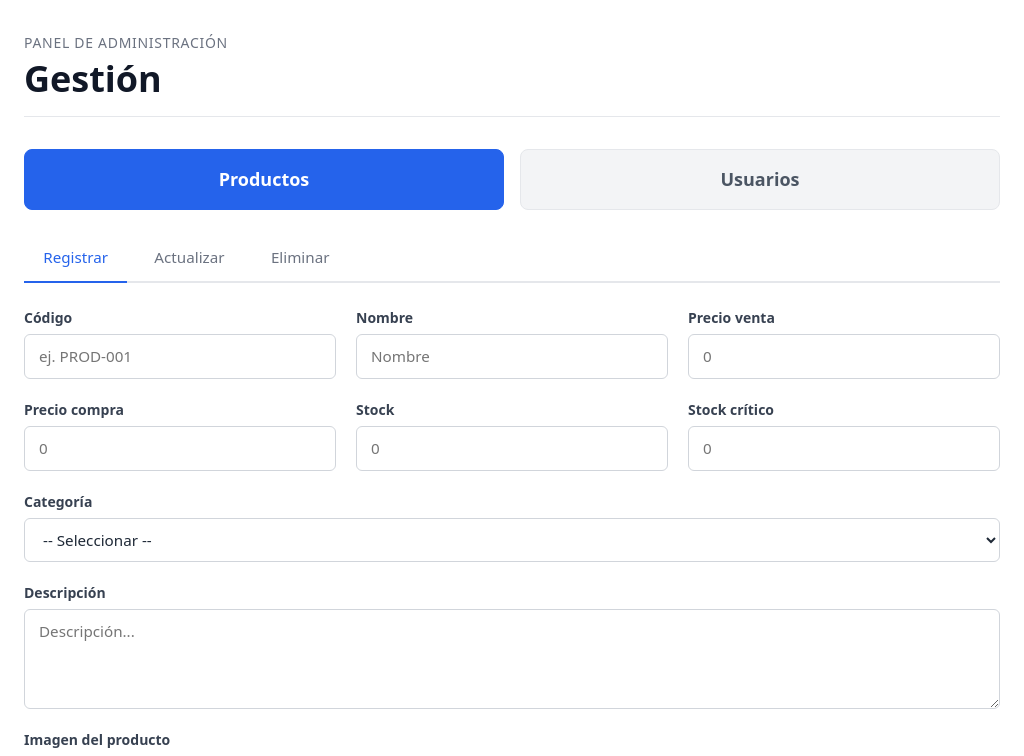
Test: Administrador › cambia a seccion Usuarios y renderiza sus subtabs
What coordinates should you click on to do the following:
click the button "Usuarios"
I would click on:
 (760, 180)
Its box is top-left (520, 149), bottom-right (1000, 210).
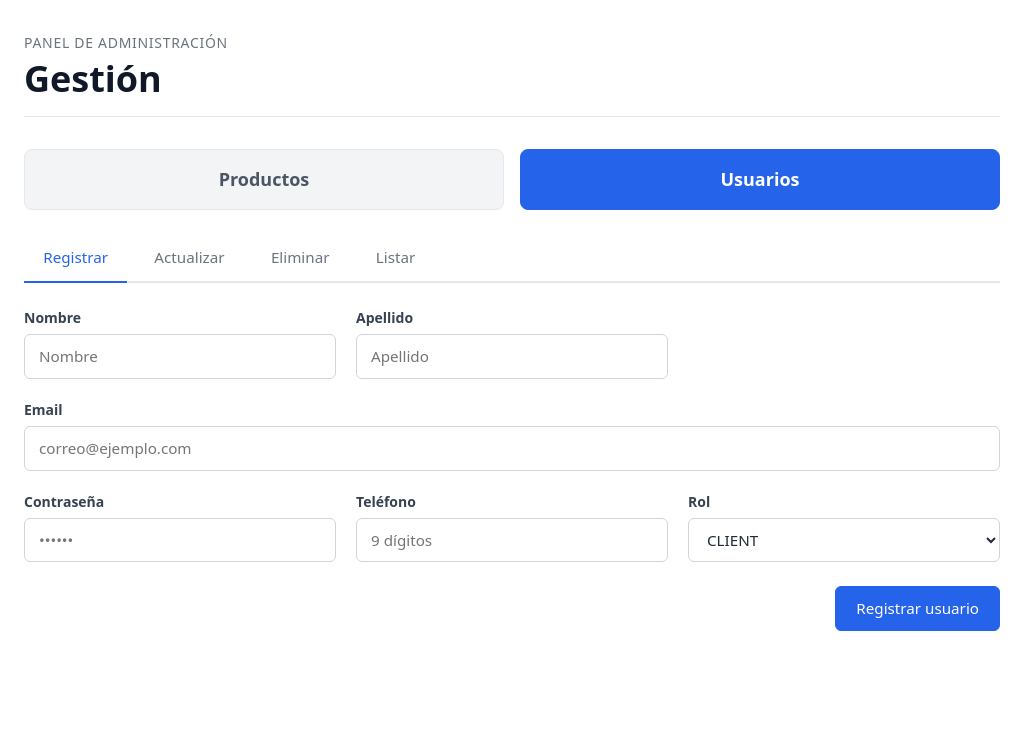
Expected: the button "Registrar" is shown, top-left (24, 234), bottom-right (127, 283)
Expected: the button "Listar" is shown, top-left (357, 234), bottom-right (434, 283)
